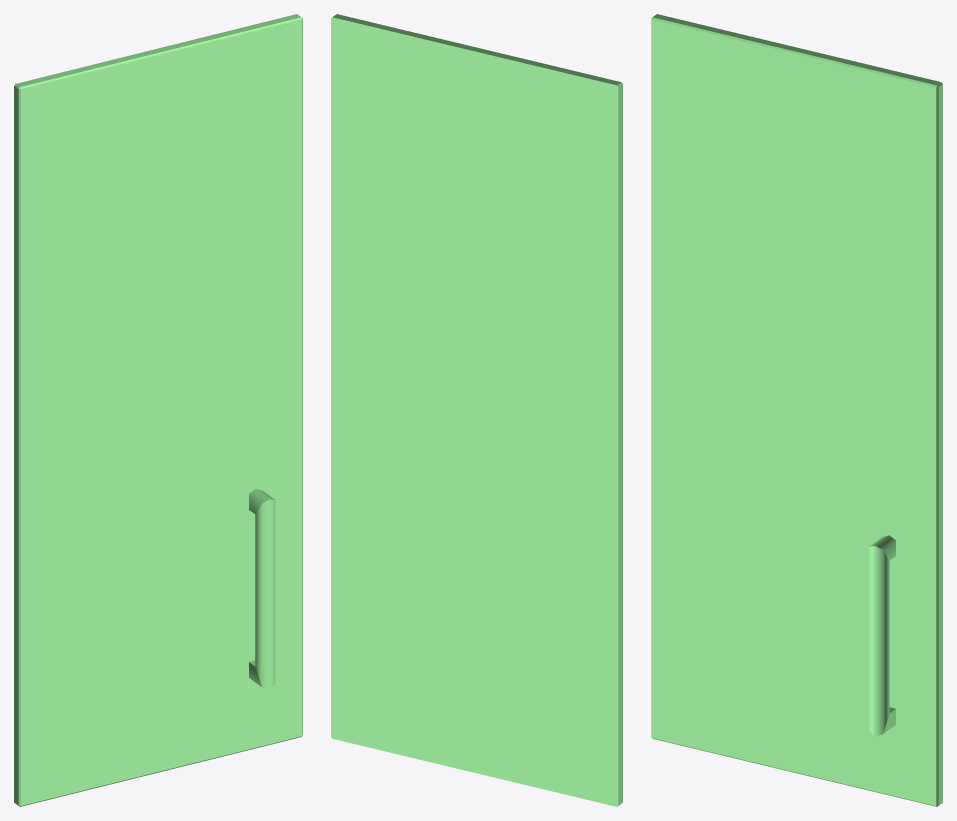
The model's file is RFAIPP_Kitchen_Cabinet_Door_Up_Left.FBX.
3 views of the same model, side by side, from view 1: azimuth 30°, elevation 25°; view 2: azimuth 150°, elevation 25°; view 3: azimuth 330°, elevation 25° (orthographic).
Parts seen in each view (by area): view 1: RFAIPP_Kitchen_Cabinet_Door_Up_Left; view 2: RFAIPP_Kitchen_Cabinet_Door_Up_Left; view 3: RFAIPP_Kitchen_Cabinet_Door_Up_Left.
Boxes of the visible parts, left/top/right/bottom form: RFAIPP_Kitchen_Cabinet_Door_Up_Left: left=14, top=14, right=302, bottom=806; RFAIPP_Kitchen_Cabinet_Door_Up_Left: left=331, top=14, right=622, bottom=806; RFAIPP_Kitchen_Cabinet_Door_Up_Left: left=651, top=14, right=942, bottom=806.
Size of the model in its own units: 0.2998 by 0.7222 by 0.036.
